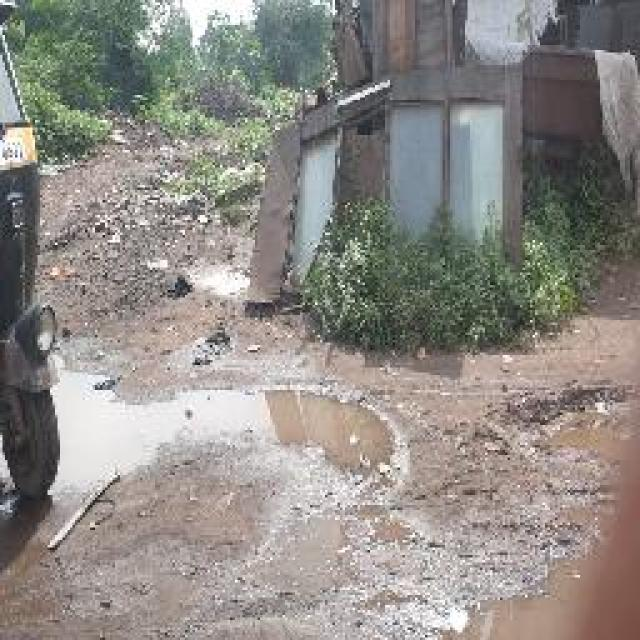waterlogging: (74, 387, 416, 497)
